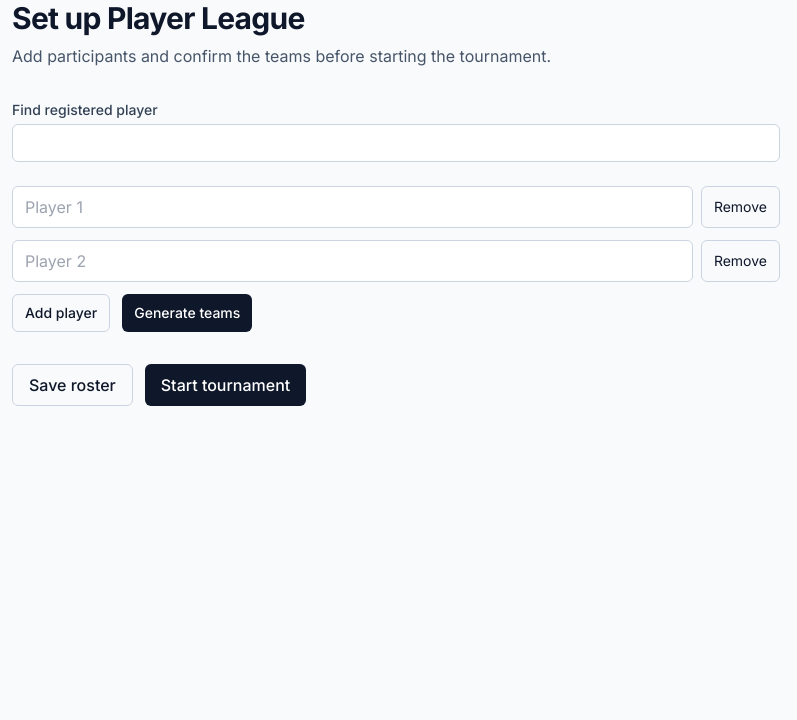
TournamentSetupForm › generates equal team previews for valid team round-robin player setup
This screenshot has width=797, height=720.
Step 1. Click the button "Add player" → x=61, y=313, box left=12, top=294, right=110, bottom=332
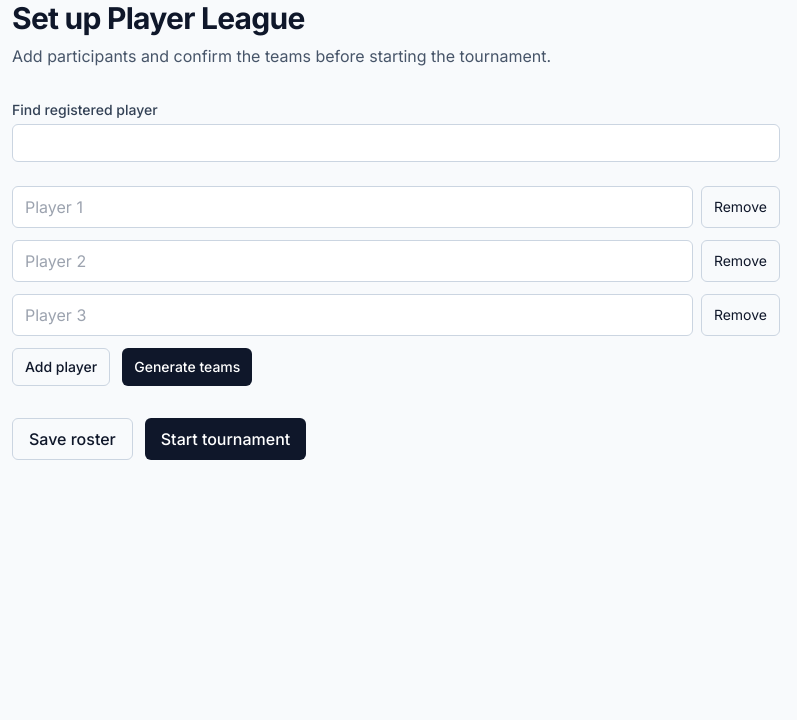
Step 2. Click the button "Add player" → x=61, y=367, box left=12, top=348, right=110, bottom=386
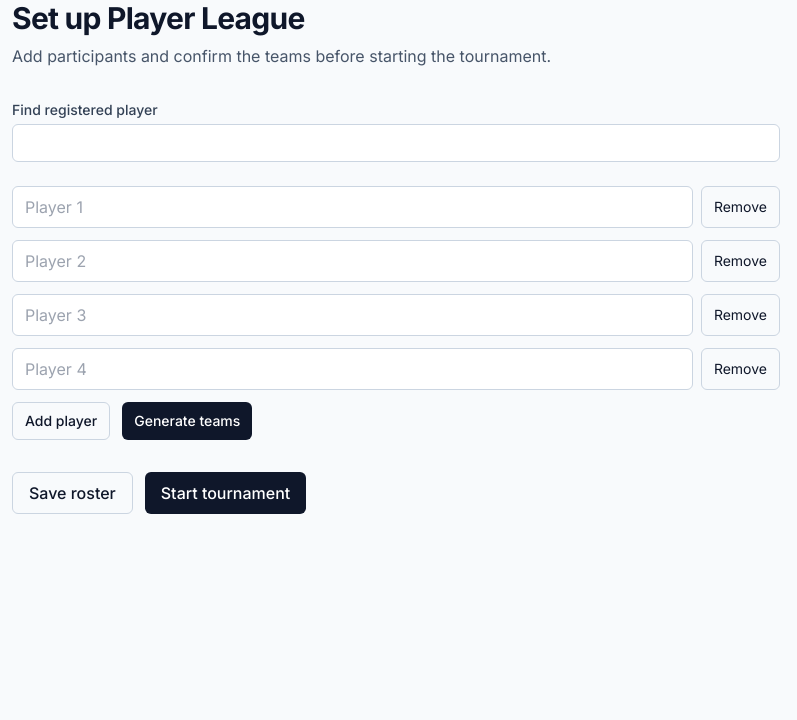
Step 3. Type "Alice" into the field labelled "Player 1" → x=352, y=207, box left=12, top=186, right=693, bottom=228
Step 4. Type "Bob" into the field labelled "Player 2" → x=352, y=261, box left=12, top=240, right=693, bottom=282
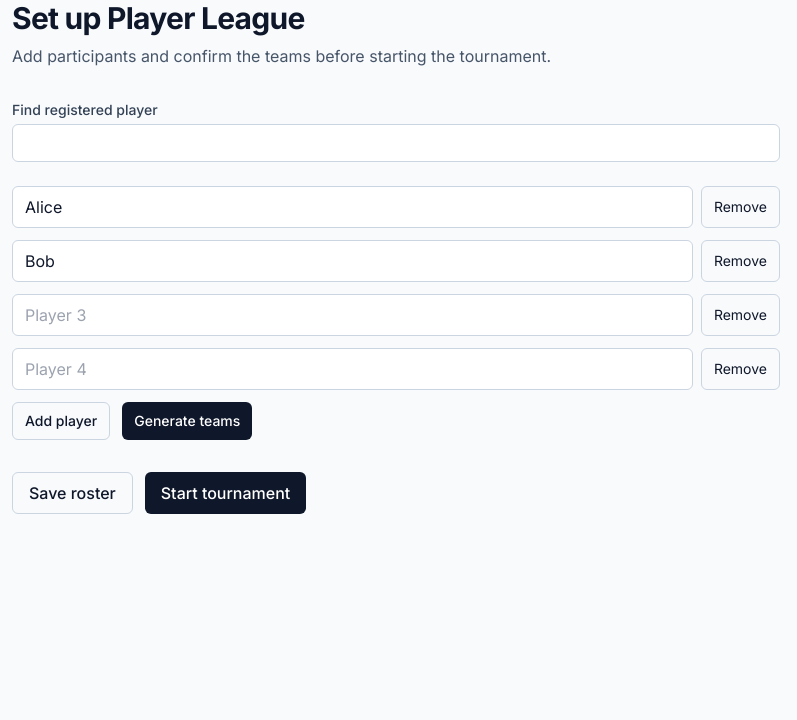
Step 5. Type "Charlie" into the field labelled "Player 3" → x=352, y=315, box left=12, top=294, right=693, bottom=336
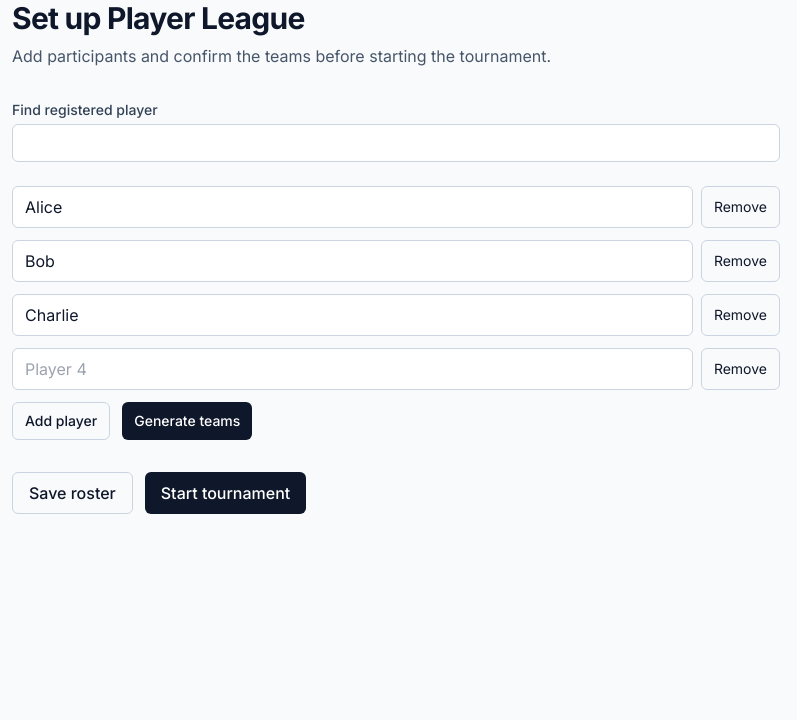
Step 6. Type "Dana" into the field labelled "Player 4" → x=352, y=369, box left=12, top=348, right=693, bottom=390
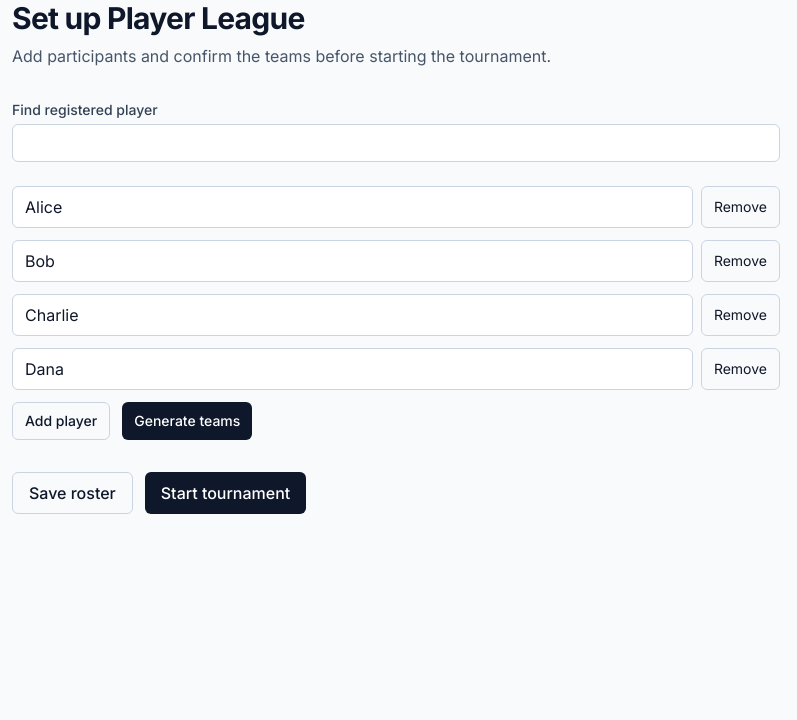
Step 7. Click the button "Generate teams" → x=187, y=421, box left=122, top=402, right=252, bottom=440
(page scrolled)
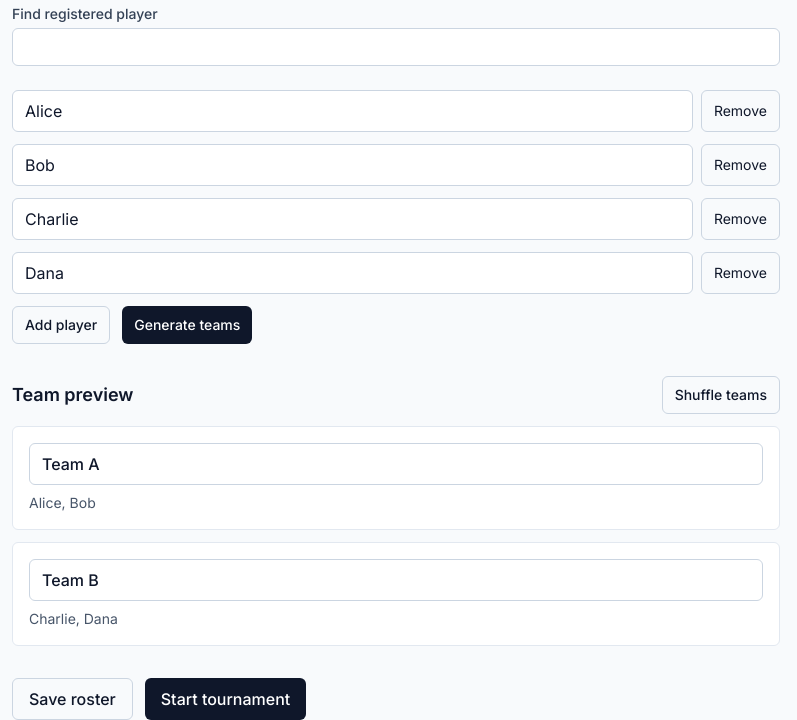
Result: the heading "Team preview" is shown at left=12, top=381, right=133, bottom=409
Result: the text "Alice, Bob" is shown at left=29, top=494, right=96, bottom=511
Result: the text "Charlie, Dana" is shown at left=29, top=610, right=118, bottom=627
